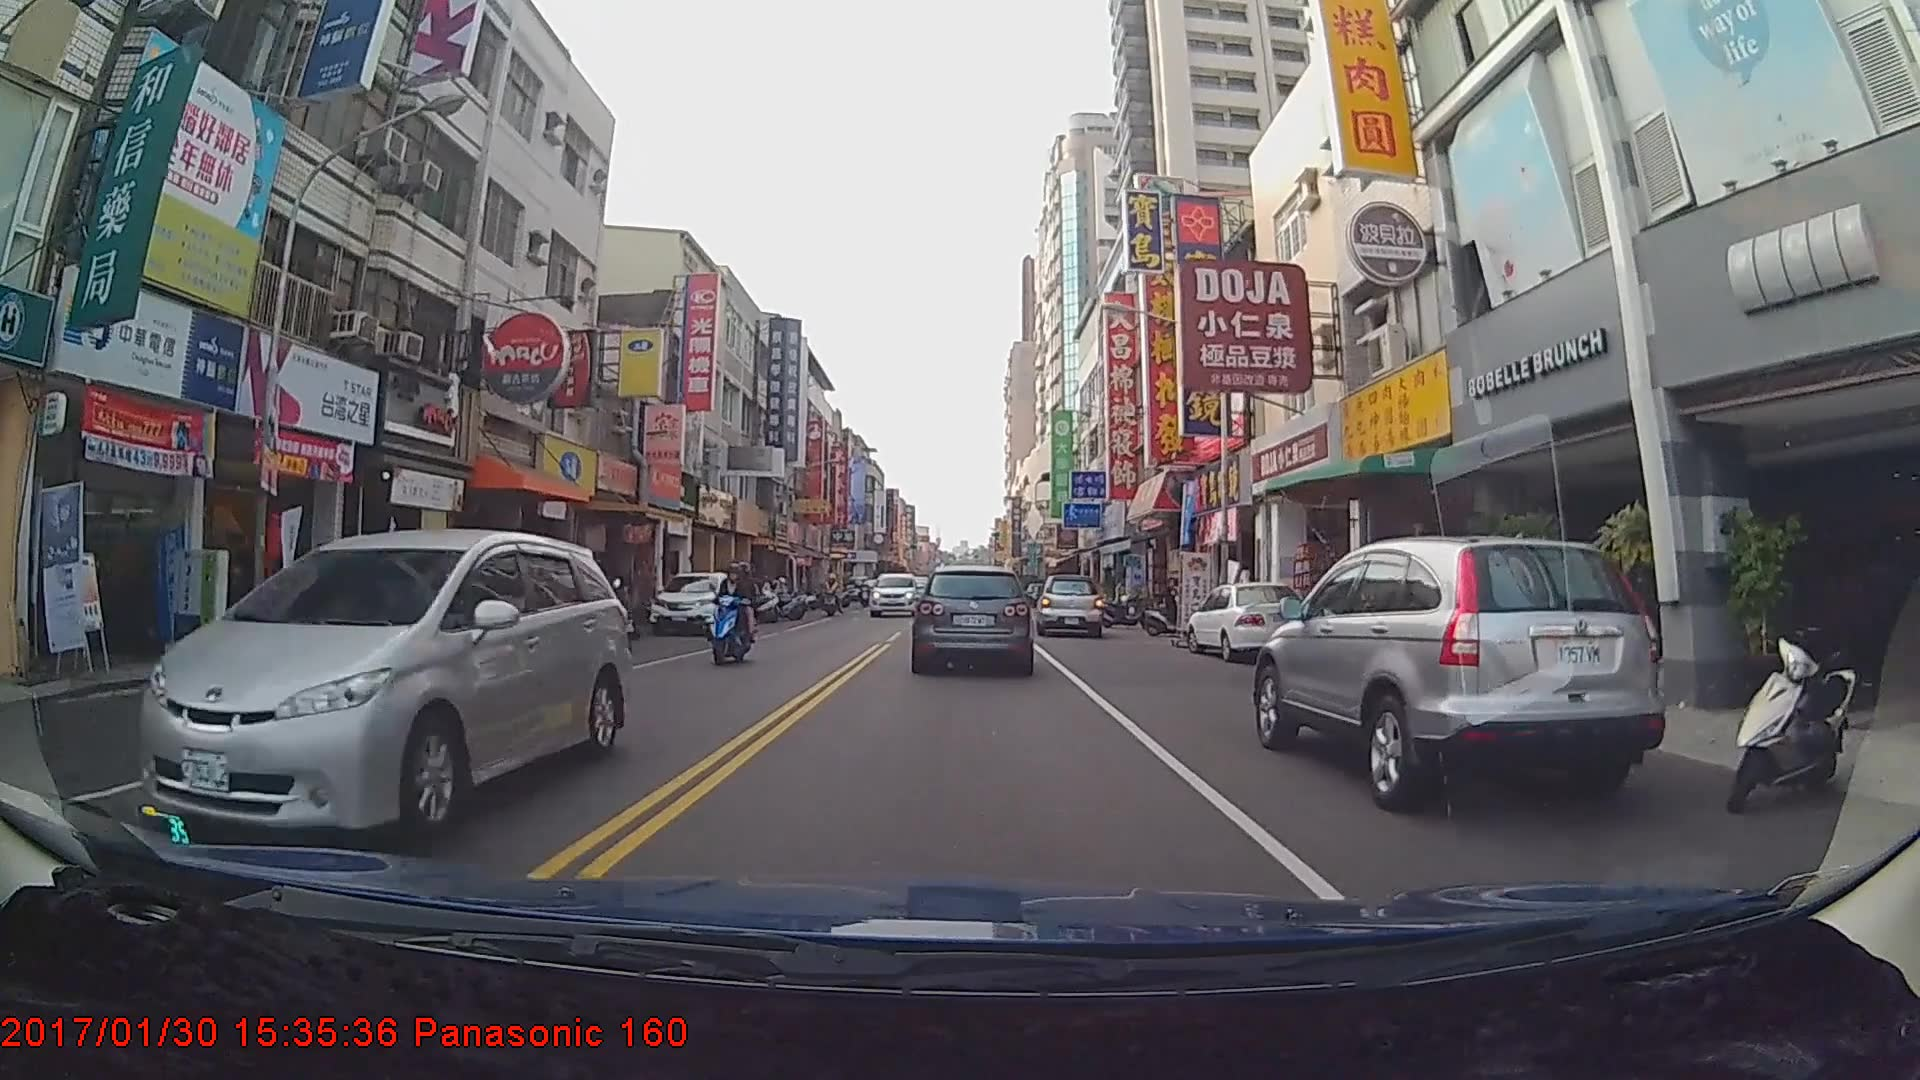rider: (699, 563, 757, 671), (1143, 579, 1198, 639)
vehicle: (137, 528, 634, 841), (1252, 533, 1658, 812), (914, 564, 1032, 673), (1182, 581, 1312, 661), (648, 571, 748, 636), (1031, 574, 1105, 638), (868, 572, 921, 618)
